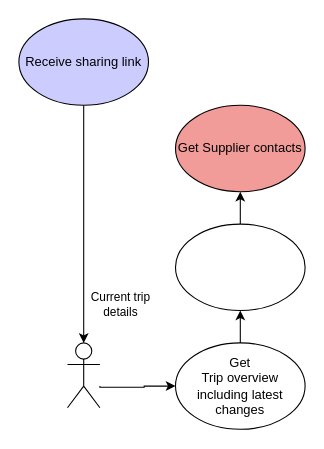
This 324x449 diagram has some shape labels left out. Each missing label, with the centre of its shape:
"Get current/next shoulder details" goes at pixel 239 266.
"Observer" goes at pixel 83 375.
